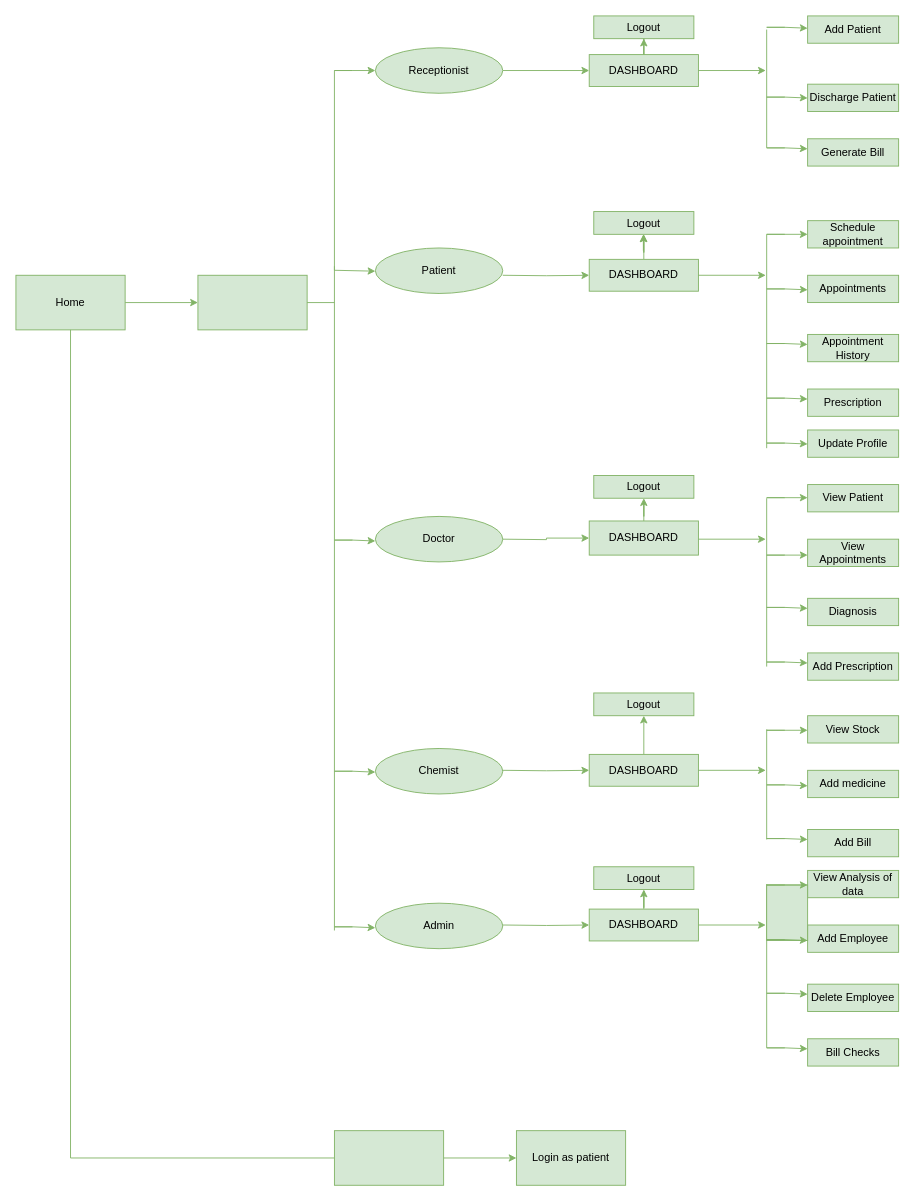
The diagram is 915 pixels wide and 1201 high, and some of its shapes have lost their labels. The centre of each missing label's shape, as x and y in pixels:
"Login" belongs at pixel 252 302.
"Register as patient" belongs at pixel 389 1157.
